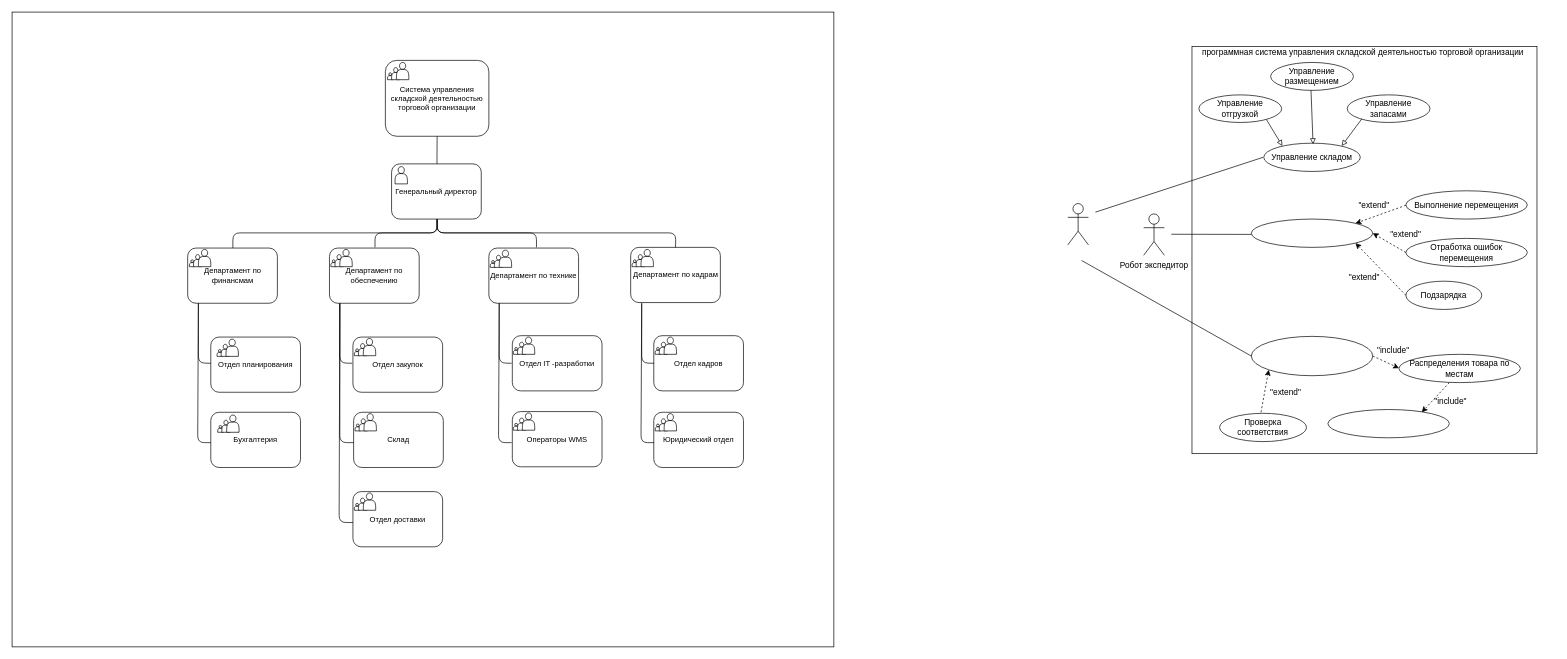
Image size: 1567x659. Some labels were removed from this diagram. Here are the shapes that lost their labels. From the top down, the centre of each, then its label:
the point at 1077,224: Оператор WMS
the point at 1312,232: Автоматизированное перемещение товара
the point at 1312,356: Автоматизированная приемка товаров
the point at 1388,423: Идентификация товара
